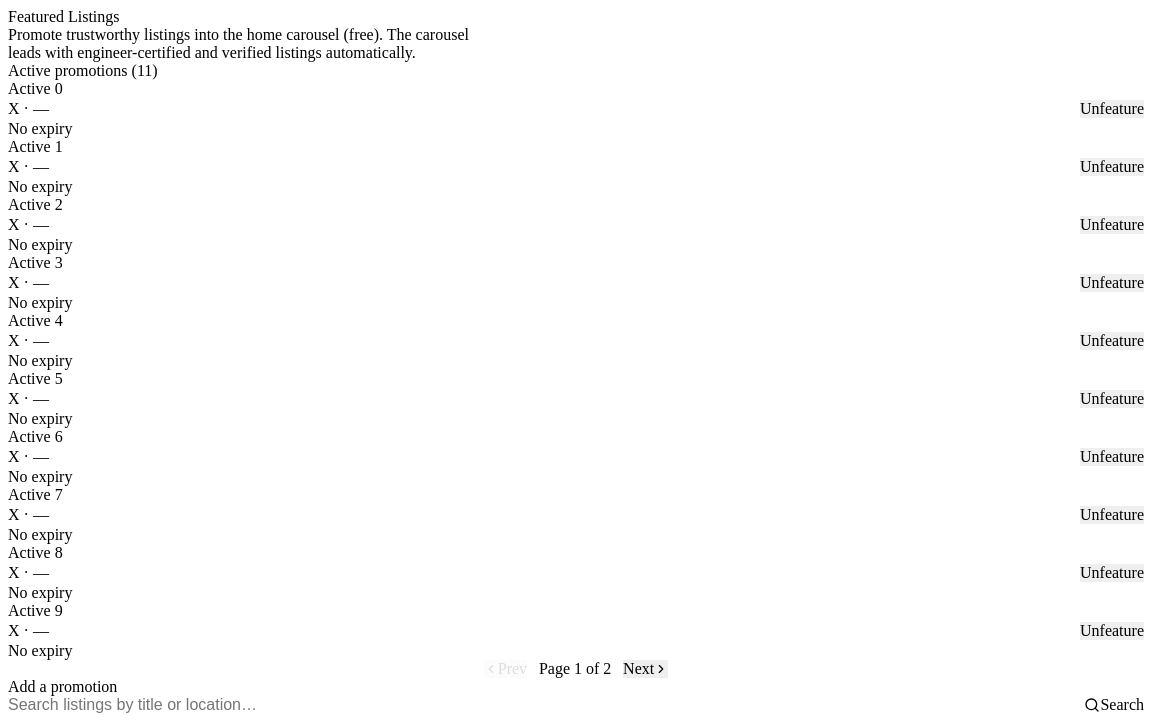
Test: FeaturedManager › paginates active promotions at 10 and fetches the next page
The image size is (1152, 720).
Expected: the text "Active 0" is shown, x1=8 y1=80 x2=63 y2=97
Expected: the text "Page 1 of 2" is shown, x1=539 y1=660 x2=611 y2=677
Click the button "Next".
click(646, 669)  # box x1=623 y1=660 x2=668 y2=678
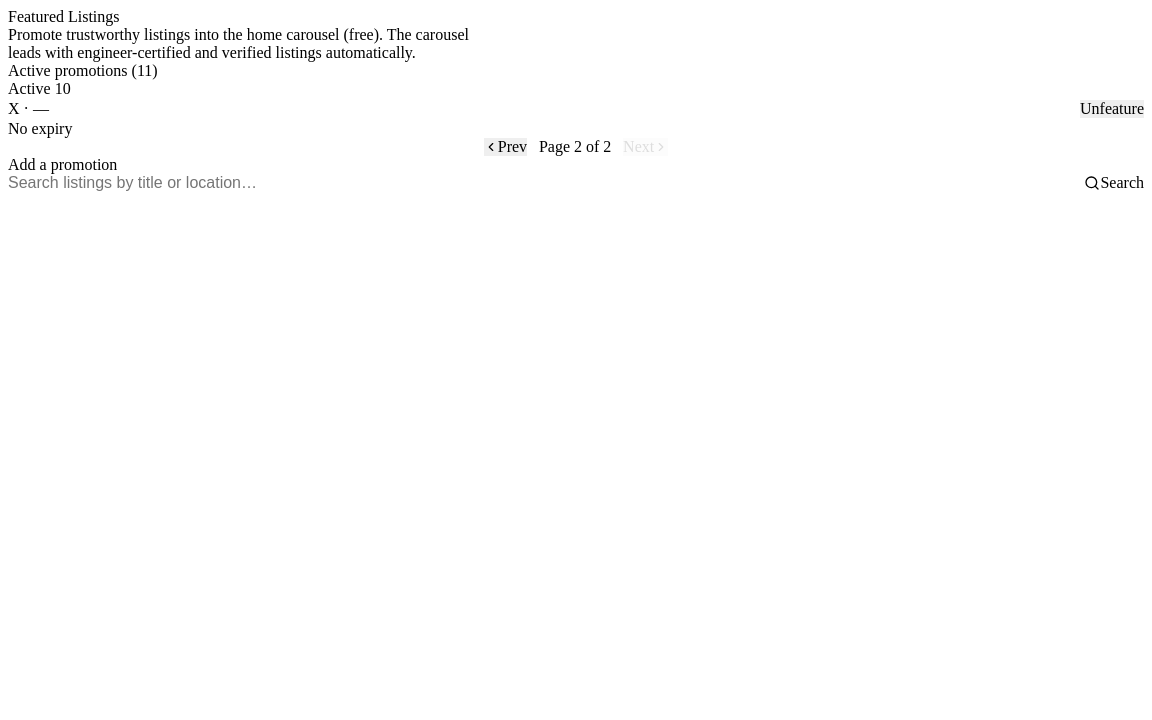
Now the text "Active 10" is shown, box x1=8 y1=80 x2=72 y2=98
Now the text "Page 2 of 2" is shown, box x1=539 y1=138 x2=611 y2=155
